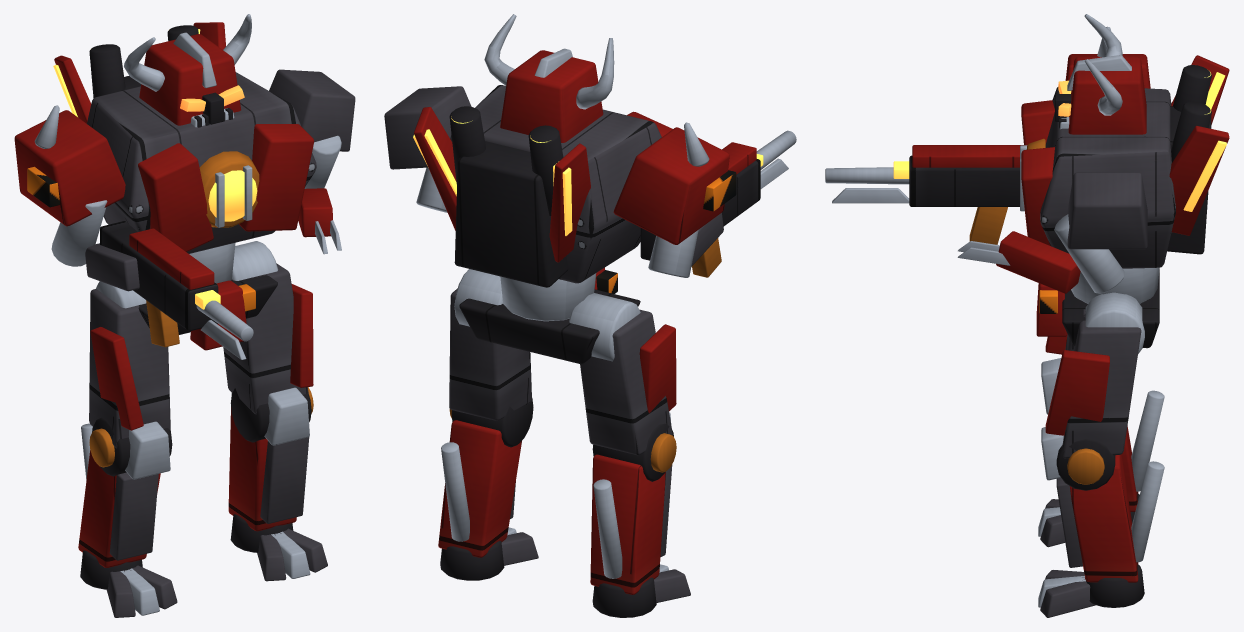
File: tactical_trooper.glb
3 renders of one model, left to right at view 1: azimuth 30°, elevation 25°; view 2: azimuth 150°, elevation 25°; view 3: azimuth 270°, elevation 25°, orthographic. The views are drawn at different scales.
Parts seen in each view (by area): view 1: Trooper_Torso, Trooper_RPauldron, RightLeg_Thigh, LeftLeg_Thigh, Trooper_ChestSide_1, Trooper_ChestSide_-1, Trooper_Helm, Trooper_LPauldron, Trooper_GunBody, RightLeg_ShinArmor, LeftLeg_ShinArmor, LeftLeg_Shin (+38 smaller); view 2: Trooper_Backpack, Trooper_Torso, Trooper_RPauldron, RightLeg_Thigh, RightLeg_Shin, LeftLeg_Shin, LeftLeg_Thigh, Trooper_Helm, Trooper_Pelvis, Trooper_LPauldron, Trooper_WaistCore, Trooper_DorsalFin_-1 (+29 smaller); view 3: Trooper_Torso, Trooper_LPauldron, LeftLeg_Shin, LeftLeg_Thigh, Trooper_GunBody, Trooper_Helm, LeftLeg_ThighGuard, Trooper_DorsalFin_1, Trooper_LFore, Trooper_GunCowl, Trooper_ChestSide_1, LeftLeg (+29 smaller).
Part boxes in pixels (box(x1,y1,x2,y2)): Trooper_Torso: box(86, 72, 316, 253); Trooper_RPauldron: box(14, 110, 125, 226); RightLeg_Thigh: box(89, 289, 170, 448); LeftLeg_Thigh: box(223, 263, 308, 414); Trooper_ChestSide_1: box(239, 124, 314, 231); Trooper_ChestSide_-1: box(138, 143, 213, 251); Trooper_Helm: box(139, 34, 241, 125); Trooper_LPauldron: box(269, 69, 355, 151); Trooper_GunBody: box(100, 221, 218, 330); RightLeg_ShinArmor: box(109, 472, 158, 560); LeftLeg_ShinArmor: box(260, 437, 309, 523); LeftLeg_Shin: box(228, 407, 296, 531); Trooper_Backpack: box(454, 141, 568, 287); Trooper_Torso: box(450, 85, 661, 283); Trooper_RPauldron: box(613, 127, 729, 244); RightLeg_Thigh: box(580, 309, 672, 455); RightLeg_Shin: box(590, 454, 665, 594); LeftLeg_Shin: box(438, 420, 521, 557); LeftLeg_Thigh: box(449, 288, 531, 420); Trooper_Helm: box(500, 50, 603, 142); Trooper_Pelvis: box(459, 289, 640, 363); Trooper_LPauldron: box(384, 86, 471, 169); Trooper_WaistCore: box(500, 273, 596, 321); Trooper_DorsalFin_-1: box(549, 143, 590, 262); Trooper_Torso: box(1040, 87, 1175, 268); Trooper_LPauldron: box(1067, 172, 1147, 249); LeftLeg_Shin: box(1069, 454, 1138, 582); LeftLeg_Thigh: box(1062, 309, 1141, 458); Trooper_GunBody: box(909, 155, 1019, 206); Trooper_Helm: box(1068, 57, 1146, 134); LeftLeg_ThighGuard: box(1045, 350, 1109, 435); Trooper_DorsalFin_1: box(1169, 125, 1229, 235); Trooper_LFore: box(996, 231, 1080, 293); Trooper_GunCowl: box(912, 145, 1023, 167); Trooper_ChestSide_1: box(1021, 147, 1054, 245); LeftLeg: box(1038, 570, 1095, 617).
Bounding box in the file's own units: 1.11 × 1.89 × 1.3.
Materials: 8 (6 with a texture image).
